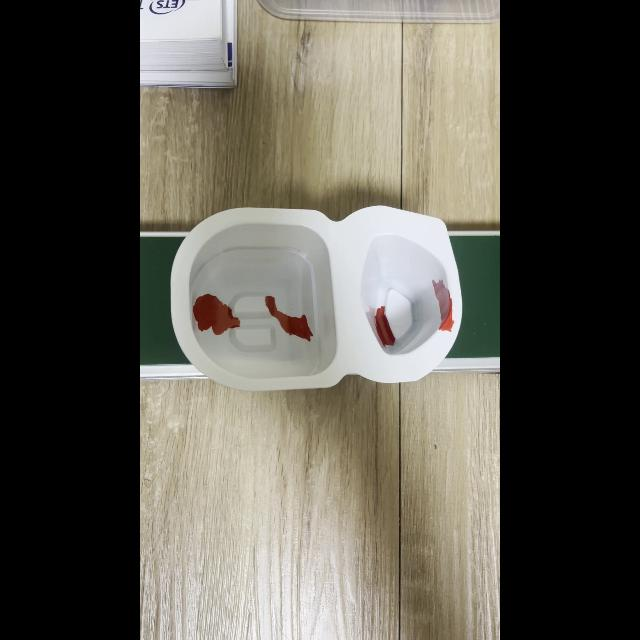dirty: (172, 206, 458, 388)
